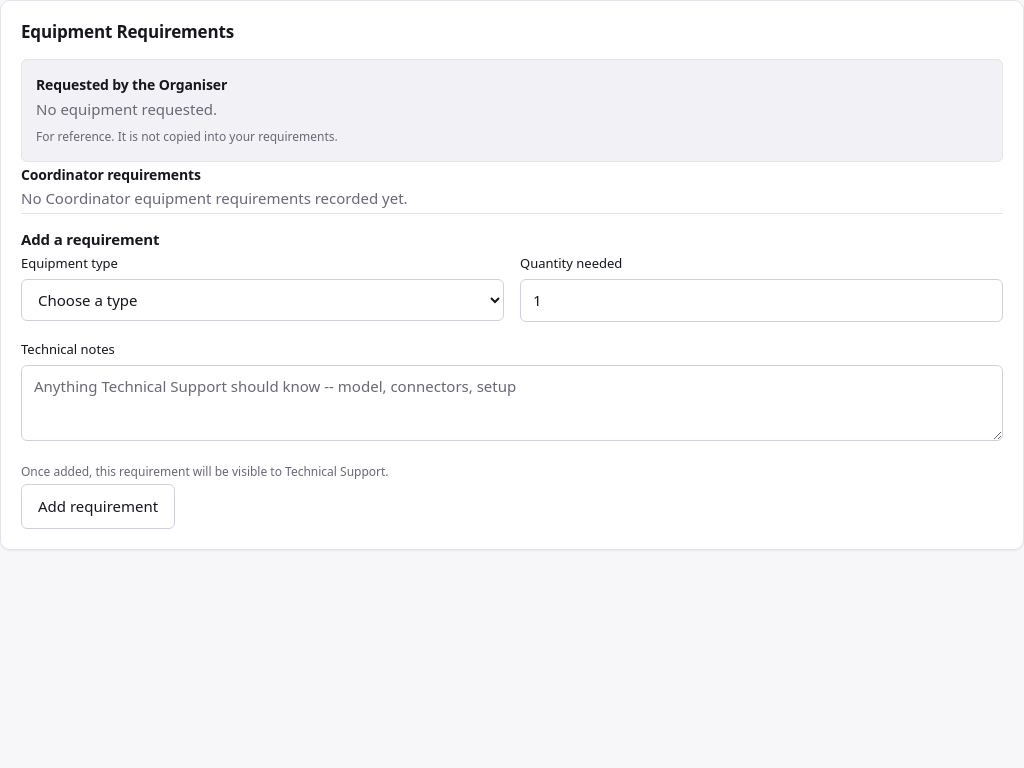
Test: ER AC1 - adding a requirement › asks for a type rather than sending a request without one
Click the button "Add requirement".
click(98, 507)  # box [21,484,175,529]
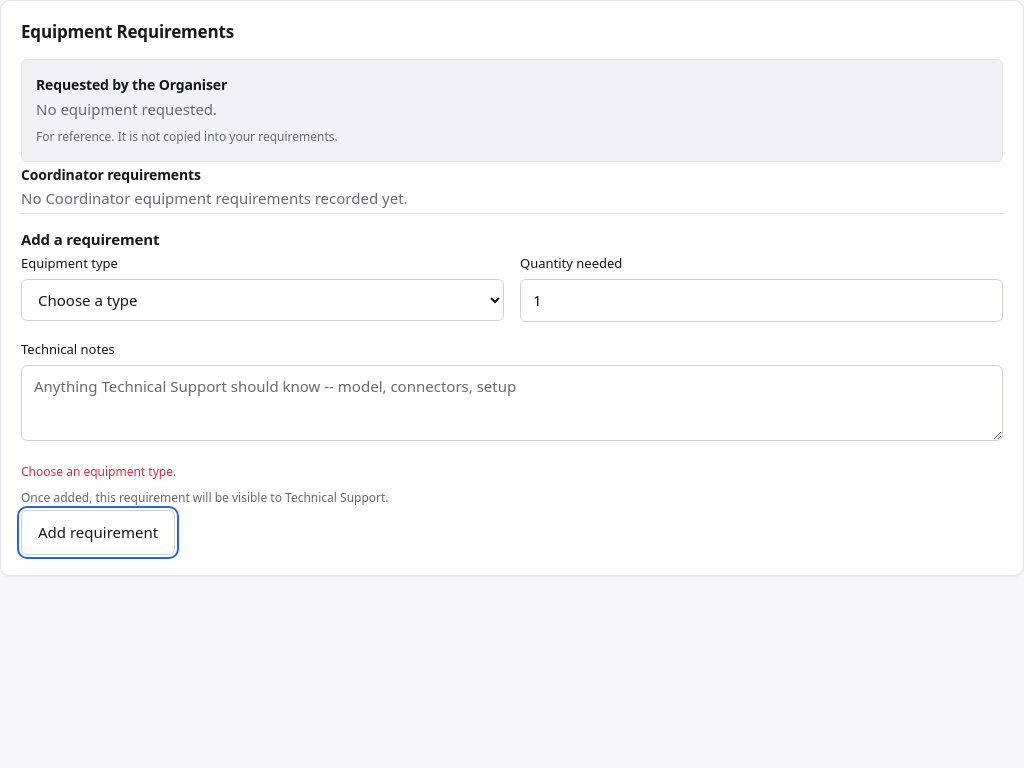
expect the text "Choose an equipment type." is shown: met, box [21,463,176,480]
